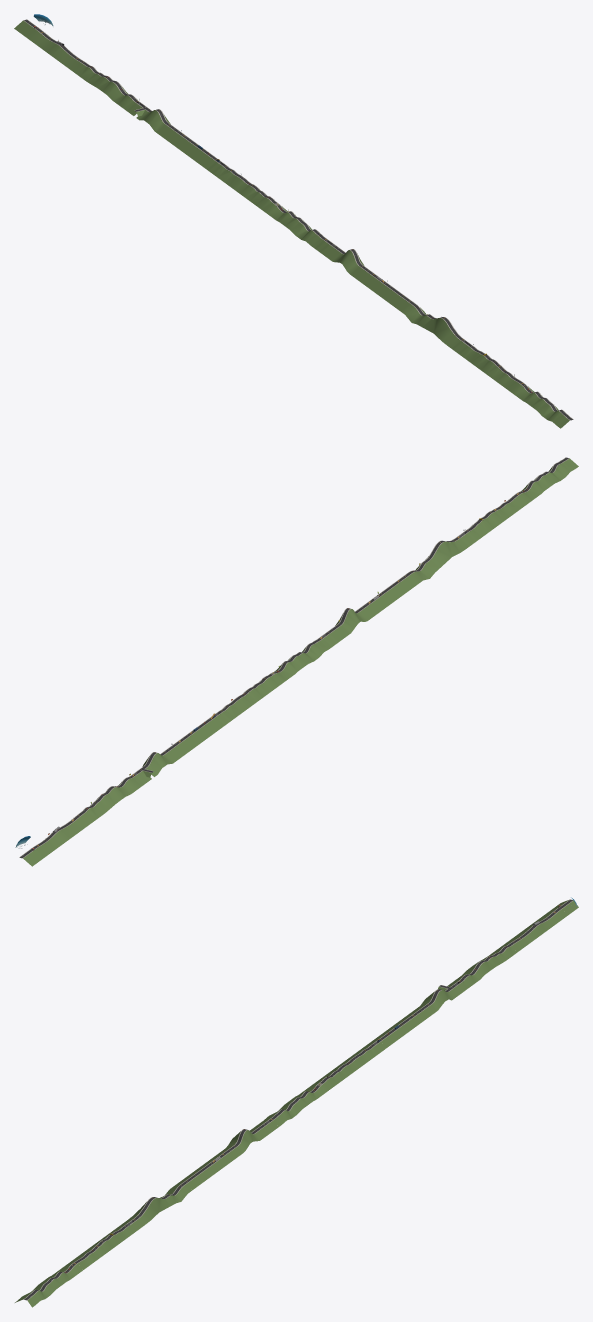
The model's file is level_5_beach.glb.
3 renders of one model, top to bottom at view 1: azimuth 30°, elevation 25°; view 2: azimuth 150°, elevation 25°; view 3: azimuth 330°, elevation 25°, orthographic.
Parts seen in each view (by area): view 1: road_hard_04, road_normal_06, road_easy_07, road_easy_09, road_normal_05, road_normal_05 (1), road_easy_00 (2), road_easy_00, road_easy_06; view 2: road_hard_04, road_normal_06, road_easy_07, road_normal_05 (1), road_easy_09, road_normal_05, road_easy_00 (2), road_easy_00, road_easy_06; view 3: road_hard_04, road_normal_06, road_normal_05, road_normal_05 (1), road_easy_07, road_easy_09, road_easy_00 (2), road_easy_00, road_easy_06.
Boxes of the visible parts, x1,y1,x2,y2 form: road_hard_04: [401, 302, 464, 348]; road_normal_06: [76, 65, 138, 110]; road_easy_07: [213, 165, 276, 211]; road_easy_09: [460, 345, 522, 391]; road_normal_05: [264, 202, 327, 248]; road_normal_05 (1): [510, 383, 573, 428]; road_easy_00 (2): [350, 265, 413, 311]; road_easy_00: [156, 123, 217, 169]; road_easy_06: [26, 28, 88, 73]; road_hard_04: [406, 537, 469, 583]; road_normal_06: [81, 775, 144, 820]; road_easy_07: [218, 675, 281, 720]; road_normal_05 (1): [515, 457, 578, 503]; road_easy_09: [465, 494, 527, 539]; road_normal_05: [269, 637, 331, 683]; road_easy_00 (2): [355, 574, 418, 620]; road_easy_00: [161, 716, 224, 762]; road_easy_06: [30, 812, 93, 858]; road_hard_04: [124, 1182, 191, 1227]; road_normal_06: [449, 944, 516, 989]; road_normal_05: [261, 1082, 328, 1126]; road_normal_05 (1): [15, 1262, 82, 1307]; road_easy_07: [311, 1045, 379, 1089]; road_easy_09: [65, 1226, 132, 1270]; road_easy_00 (2): [174, 1145, 242, 1190]; road_easy_00: [369, 1003, 436, 1048]; road_easy_06: [500, 908, 567, 952].
Size of what is drawn, in the model's own units: 58.1 by 44.51 by 2111.
7 materials, 7 textured.
